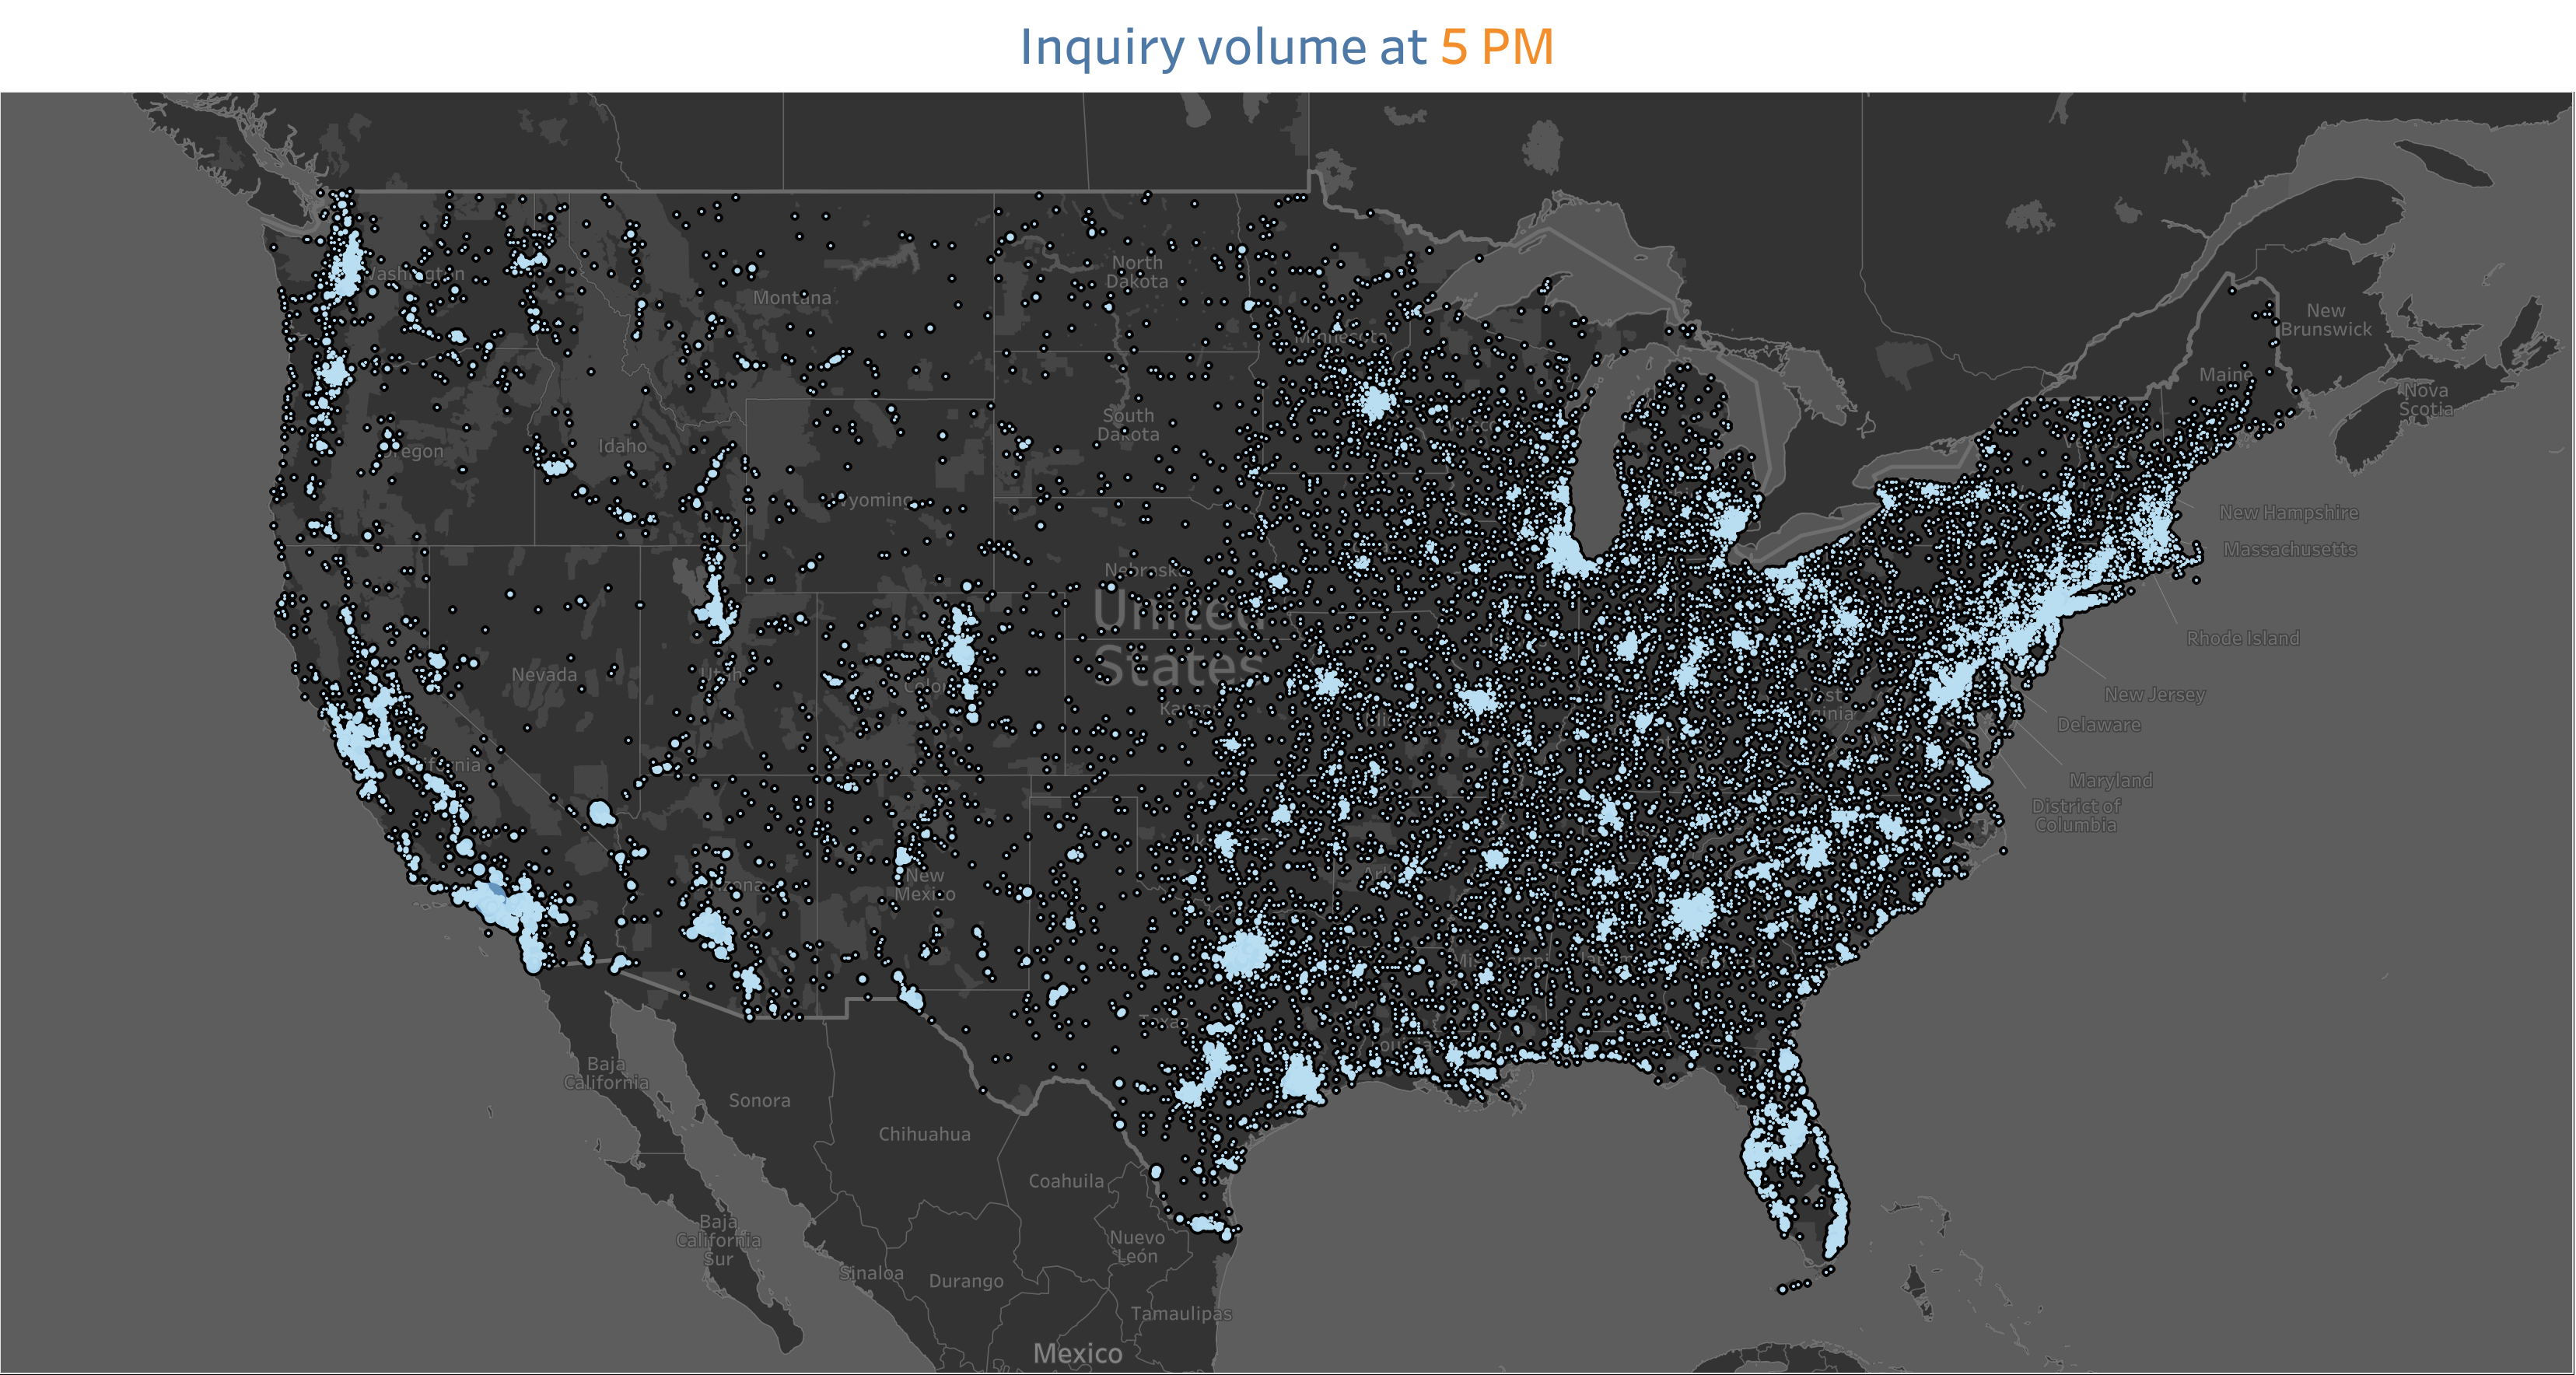

What the dashboard file says about the page in this screenshot:
{"tool":"tableau","page":{"name":"Dashboard 1","canvas":[1000,1000],"units":"permille","ordinal":0},"visuals":[{"type":"worksheet","title":"Sheet 1","mark":"Automatic","box":[4.7,8.8,990.6,982.3]},{"type":"currpage","title":"Sheet 1","box":[883,30.9,87.8,105]}]}

Visuals, with their boxes on the dashboard's canvas, which has no fixed pixel size, in thousandths of its width and height (x1, y1, x2, y2). These are canvas units, not pixel positions in the 2576x1375 screenshot, which may show the page scaled, cropped or inside an application window:
"Sheet 1" worksheet: [left=5, top=9, right=995, bottom=991]
"Sheet 1" currpage: [left=883, top=31, right=971, bottom=136]
